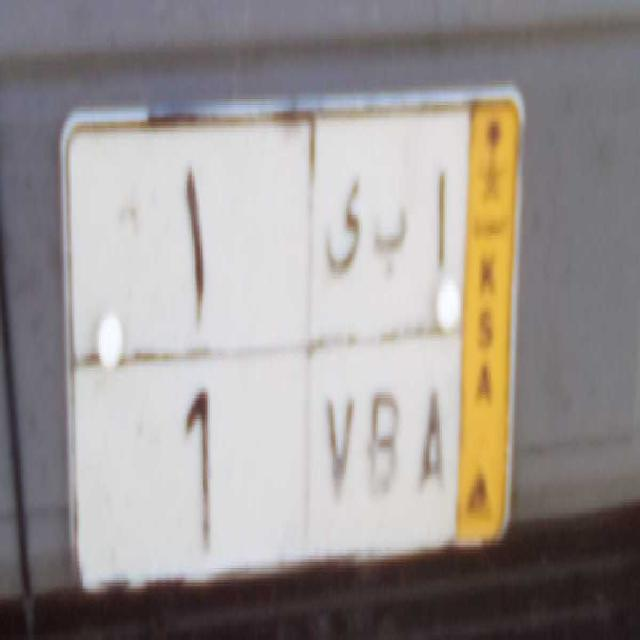license_plate: (75, 340, 457, 574)
